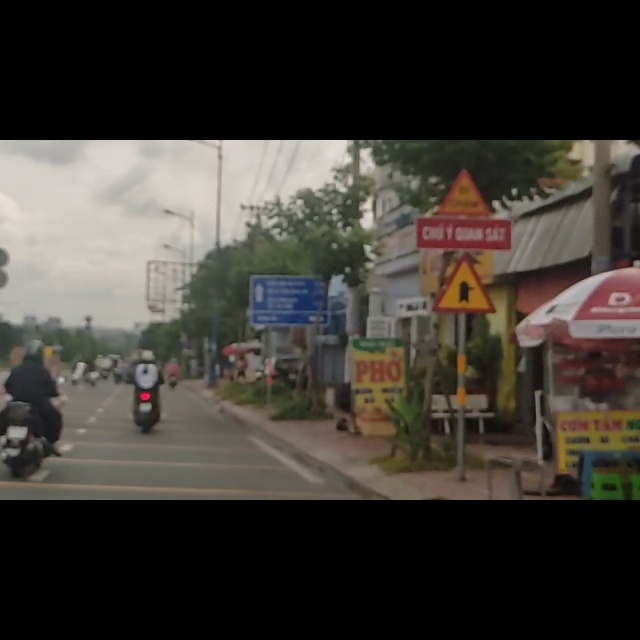bien_chi_dan: (428, 199, 502, 313)
